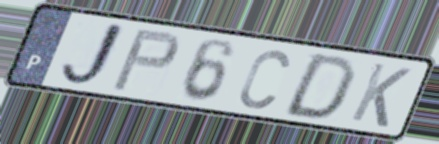6: (178, 37, 238, 105)
C: (236, 46, 292, 111)
D: (278, 51, 360, 122)
J: (57, 19, 130, 90)
K: (347, 60, 415, 130)
P: (107, 27, 183, 94)
